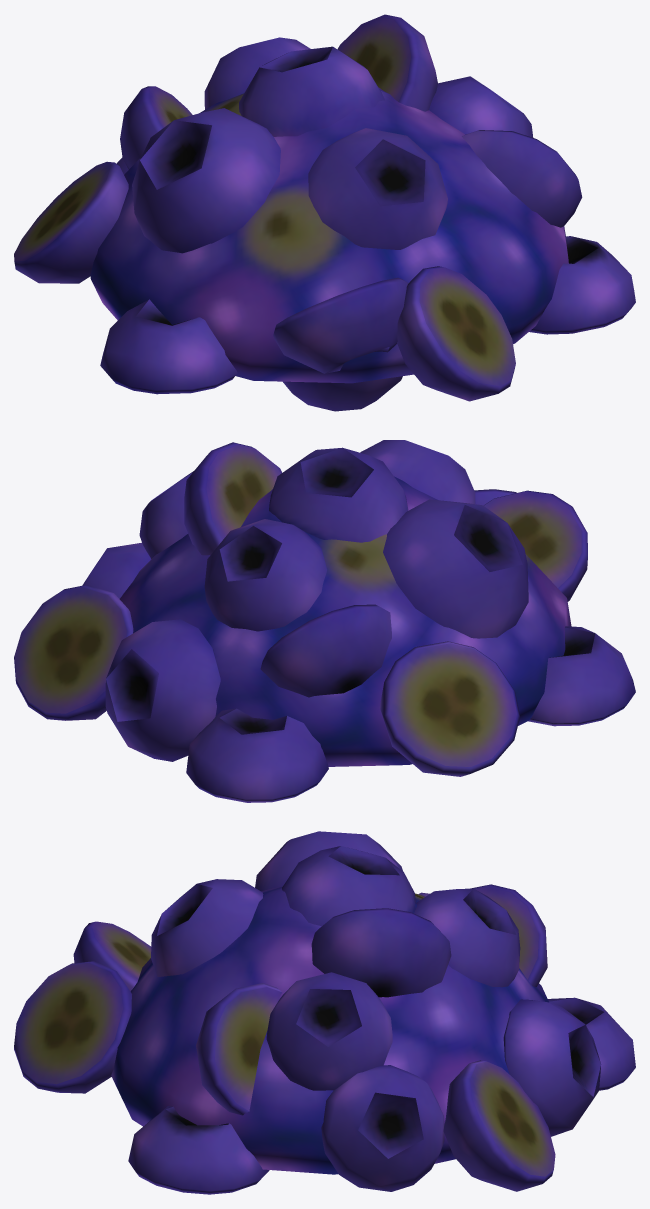
Rendered from m_dlc5_prep_blueberry_01.fbx.
3 views of the same model, one above another, from view 1: azimuth 30°, elevation 25°; view 2: azimuth 150°, elevation 25°; view 3: azimuth 270°, elevation 25° (orthographic). The views are drawn at different scales.
Parts seen in each view (by area): view 1: m_dlc5_prep_blueberry_01; view 2: m_dlc5_prep_blueberry_01; view 3: m_dlc5_prep_blueberry_01.
Part boxes in pixels (left/top/right/bottom): m_dlc5_prep_blueberry_01: left=14, top=14, right=635, bottom=411; m_dlc5_prep_blueberry_01: left=14, top=440, right=635, bottom=802; m_dlc5_prep_blueberry_01: left=14, top=831, right=635, bottom=1194.
Size of the model in its own units: 99.78 by 53.51 by 111.
